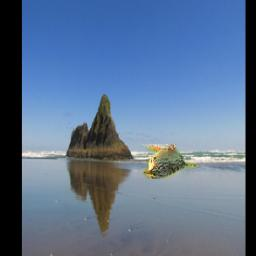Sparrow: (142, 144, 198, 179)
